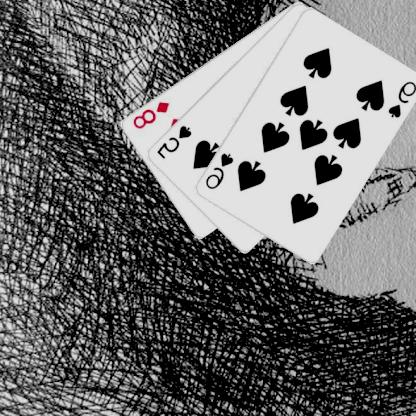5S: (156, 122, 194, 161)
8D: (131, 99, 172, 130)
9S: (204, 150, 236, 191), (386, 78, 416, 119)
